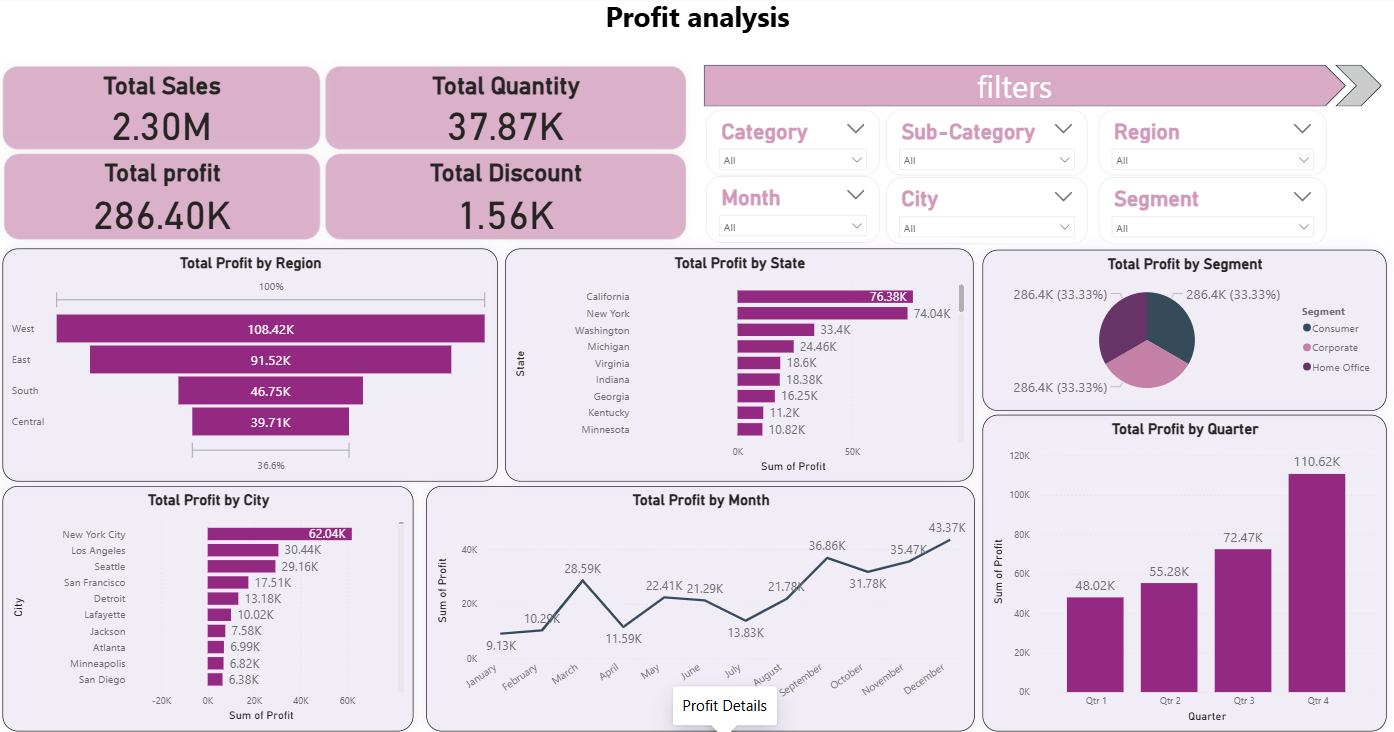

This screenshot's page, from the dashboard's own definition file:
{"tool":"powerbi","page":{"name":"Profit Details","canvas":[1800,950],"ordinal":4},"visuals":[{"type":"card","title":"Total Quantity","fields":{"Values":["Orders.total Discount"]},"box":[418.8,91,466,107.9],"z":0},{"type":"card","title":"Total Sales","fields":{"Values":["Orders.total sales"]},"box":[2.7,91,410.4,107.9],"z":1000},{"type":"card","title":"Total profit","fields":{"Values":["Orders.total Profit"]},"box":[4.4,203.8,408.8,111.2],"z":2000},{"type":"card","title":"Total Discount","fields":{"Values":["Orders.total Discount"]},"box":[418.8,203.8,466,111.2],"z":3000},{"type":"pieChart","title":"Total Profit by Segment","fields":{"Category":["Orders$FilterDatabase.Segment"],"Y":["Sum(Orders.Profit)"]},"box":[1268.9,327,521.6,207.7],"z":4000},{"type":"clusteredColumnChart","title":"Total Profit by Quarter","fields":{"Category":["Orders.Order Date.Variation.Date Hierarchy.Quarter"],"Y":["Sum(Orders.Profit)"]},"box":[1268.9,541.2,521.6,408.8],"z":5000},{"type":"shape","box":[907.7,89.3,829,54],"z":6000},{"type":"shape","box":[1723.3,89.3,60.5,54],"z":7000},{"type":"slicer","fields":{"Values":["Orders.Category"]},"box":[911.3,146.6,224,85],"z":8000},{"type":"slicer","fields":{"Values":["Orders.Sub-Category"]},"box":[1144.2,146.5,260,85],"z":9000},{"type":"slicer","fields":{"Values":["Orders.Region"]},"box":[1418.9,146.5,294.3,85],"z":10000},{"type":"slicer","fields":{"Values":["Orders.City"]},"box":[1143.5,233.2,260,86.7],"z":11000},{"type":"slicer","fields":{"Values":["Orders.Order Date.Variation.Date Hierarchy.Month"]},"box":[911.3,231.6,224,86.7],"z":12000},{"type":"slicer","fields":{"Values":["Orders.Segment"]},"box":[1418.2,233.2,294.3,86.7],"z":13000},{"type":"clusteredBarChart","title":"Total Profit  by City","fields":{"Category":["Orders.City"],"Y":["Sum(Orders.Profit)"]},"box":[3.9,632.9,530.7,316.5],"z":14000},{"type":"funnel","title":"Total Profit by Region","fields":{"Category":["Orders.Region"],"Y":["Sum(Orders.Profit)"]},"box":[3.3,325.4,639.4,300.9],"z":15000},{"type":"clusteredBarChart","title":"Total Profit  by State","fields":{"Category":["Orders.State"],"Y":["Sum(Orders.Profit)"]},"box":[652.4,325.4,605,300.9],"z":16000},{"type":"lineChart","title":"Total Profit  by Month","fields":{"Category":["Orders.Order Date.Variation.Date Hierarchy.Month"],"Y":["Sum(Orders.Profit)"]},"box":[550,632.9,708.2,316.5],"z":17000},{"type":"shape","box":[458.2,0,884.2,50],"z":18000}]}

Visuals, with their boxes in screenshot pixels (x1, y1, x2, y2), scaled from the page's 1800x950 canvas onto the 1394x732 screenshot:
"Total Quantity" card: crop(324, 70, 685, 153)
"Total Sales" card: crop(2, 70, 320, 153)
"Total profit" card: crop(3, 157, 320, 243)
"Total Discount" card: crop(324, 157, 685, 243)
"Total Profit by Segment" pieChart: crop(983, 252, 1387, 412)
"Total Profit by Quarter" clusteredColumnChart: crop(983, 417, 1387, 731)
shape: crop(703, 69, 1345, 110)
shape: crop(1335, 69, 1381, 110)
slicer - Orders.Category: crop(706, 113, 879, 178)
slicer - Orders.Sub-Category: crop(886, 113, 1087, 178)
slicer - Orders.Region: crop(1099, 113, 1327, 178)
slicer - Orders.City: crop(886, 180, 1087, 246)
slicer - Orders.Order Date.Variation.Date Hierarchy.Month: crop(706, 178, 879, 245)
slicer - Orders.Segment: crop(1098, 180, 1326, 246)
"Total Profit  by City" clusteredBarChart: crop(3, 488, 414, 731)
"Total Profit by Region" funnel: crop(3, 251, 498, 483)
"Total Profit  by State" clusteredBarChart: crop(505, 251, 974, 483)
"Total Profit  by Month" lineChart: crop(426, 488, 974, 731)
shape: crop(355, 0, 1040, 39)
